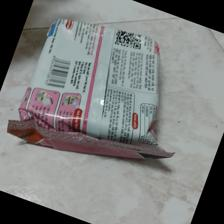Haohao: (8, 18, 177, 163)
